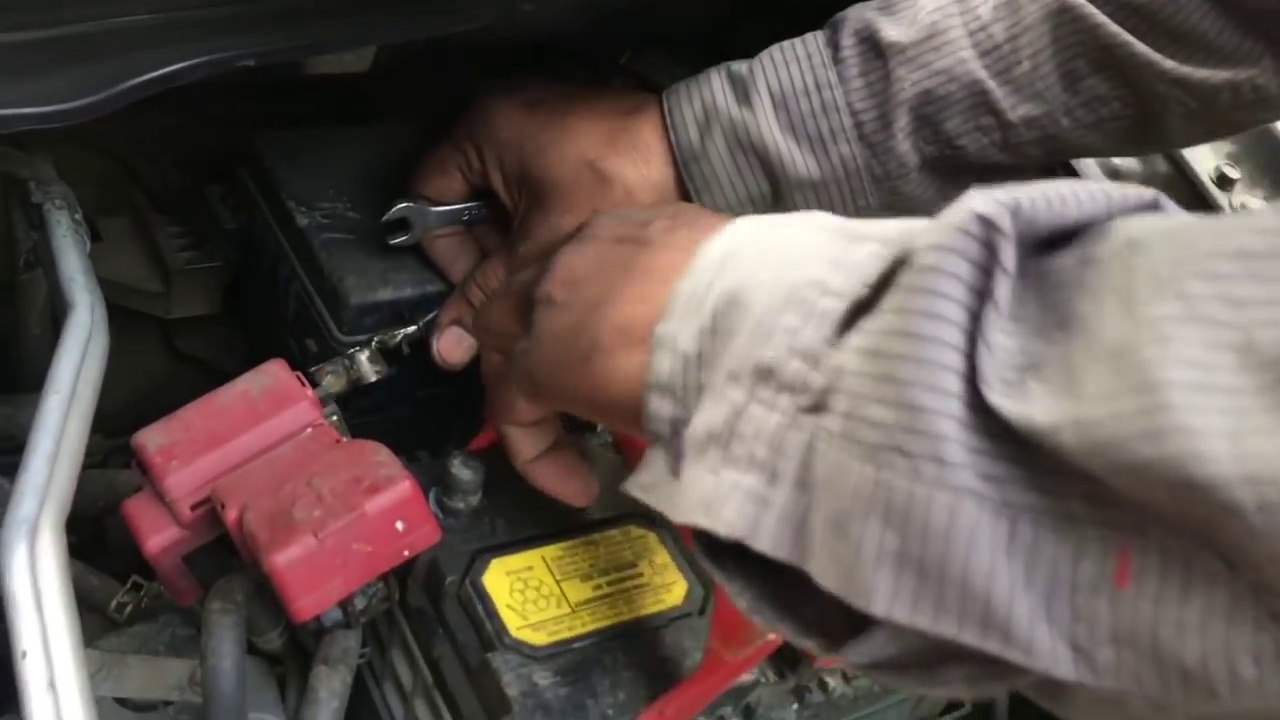battery: (389, 393, 794, 720)
pos_disconnected: (219, 326, 511, 614)
pos_touched: (268, 174, 633, 586)
